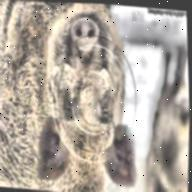boar: (0, 0, 137, 192)
